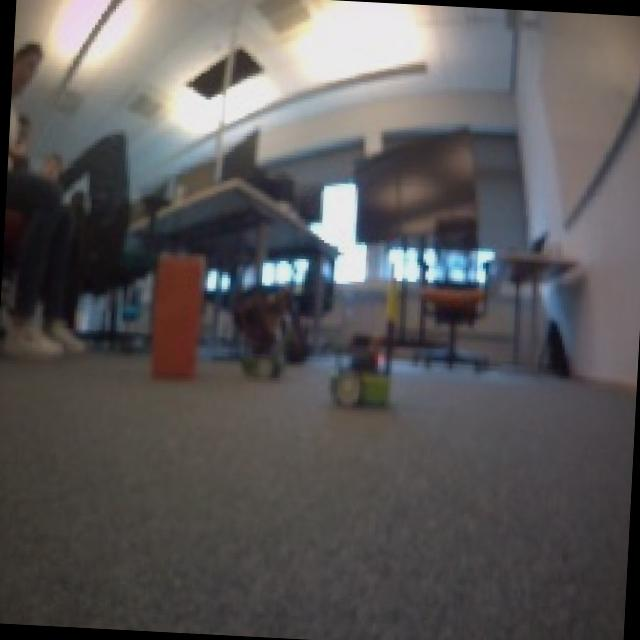robot: (331, 333, 398, 409), (238, 327, 288, 383)
target: (145, 248, 206, 379)
